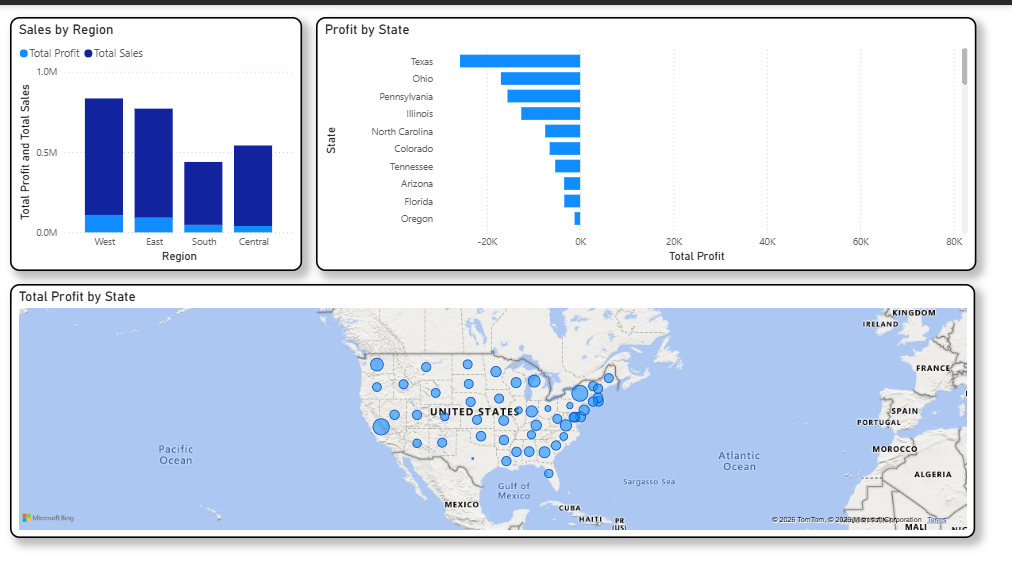

The dashboard page shown, as its layout file describes it:
{"tool":"powerbi","page":{"name":"Geography Analysis","canvas":[1280,720],"ordinal":3},"visuals":[{"type":"columnChart","title":"Sales by Region","fields":{"Category":["superstore_cleaned.Region"],"Y":["superstore_cleaned.Total Profit","superstore_cleaned.Total Sales"]},"box":[16,16,368,320],"z":0},{"type":"clusteredBarChart","title":"Profit by State","fields":{"Y":["superstore_cleaned.Total Profit"],"Category":["superstore_cleaned.State"]},"box":[400,16,832,320],"z":1000},{"type":"map","fields":{"Category":["superstore_cleaned.State"],"Size":["superstore_cleaned.Total Profit"]},"box":[16,352,1216,320],"z":2000}]}

Visuals, with their boxes in screenshot pixels (x1, y1, x2, y2), scaled from the page's 1280x720 canvas onto the 1012x574 screenshot:
"Sales by Region" columnChart: x1=13, y1=13, x2=304, y2=268
"Profit by State" clusteredBarChart: x1=316, y1=13, x2=974, y2=268
map - superstore_cleaned.State x superstore_cleaned.Total Profit: x1=13, y1=281, x2=974, y2=536
